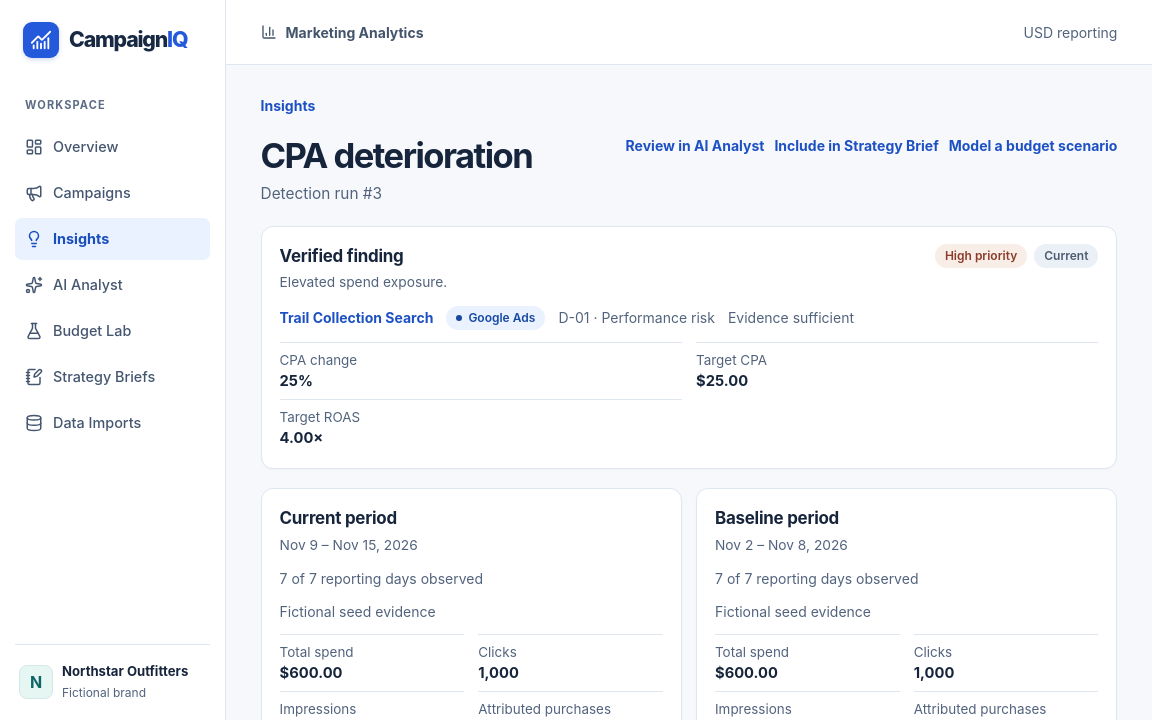
opens a finding-context draft with the linked campaign selected and requires a deliberate allocation
Click the link "Model a budget scenario": {"x": 1033, "y": 146} [949,135,1118,156]
(page scrolled)
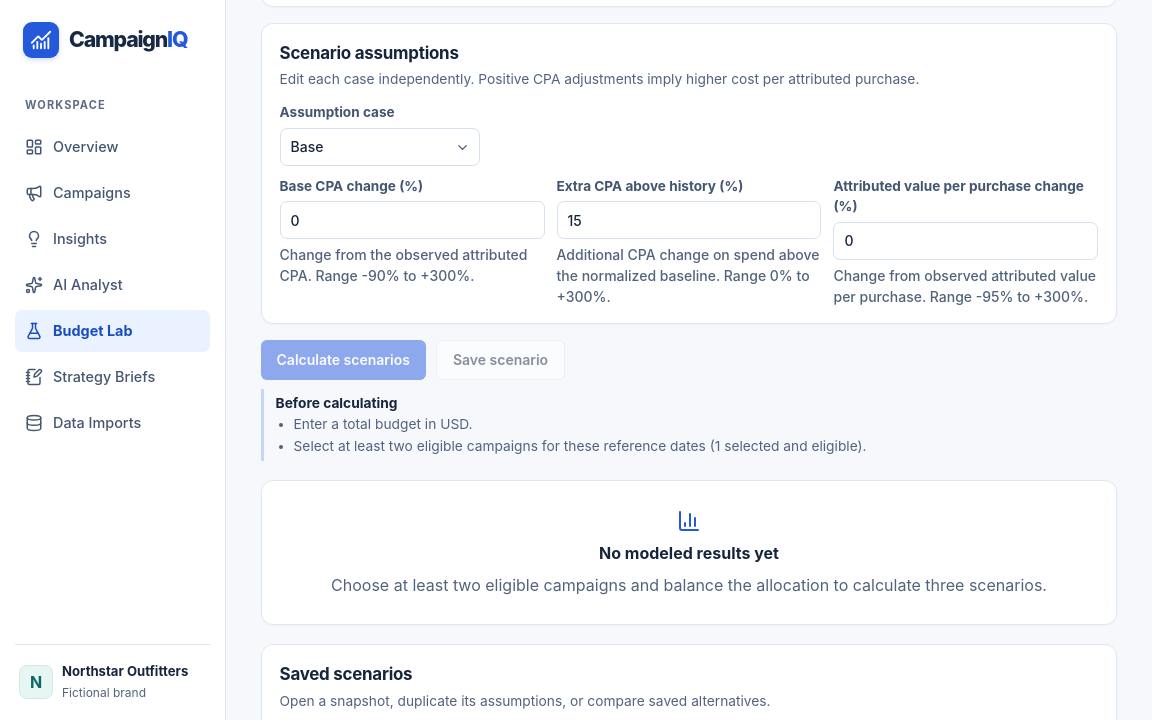
Now the button "Calculate scenarios" is disabled, box [260,340,426,380]
